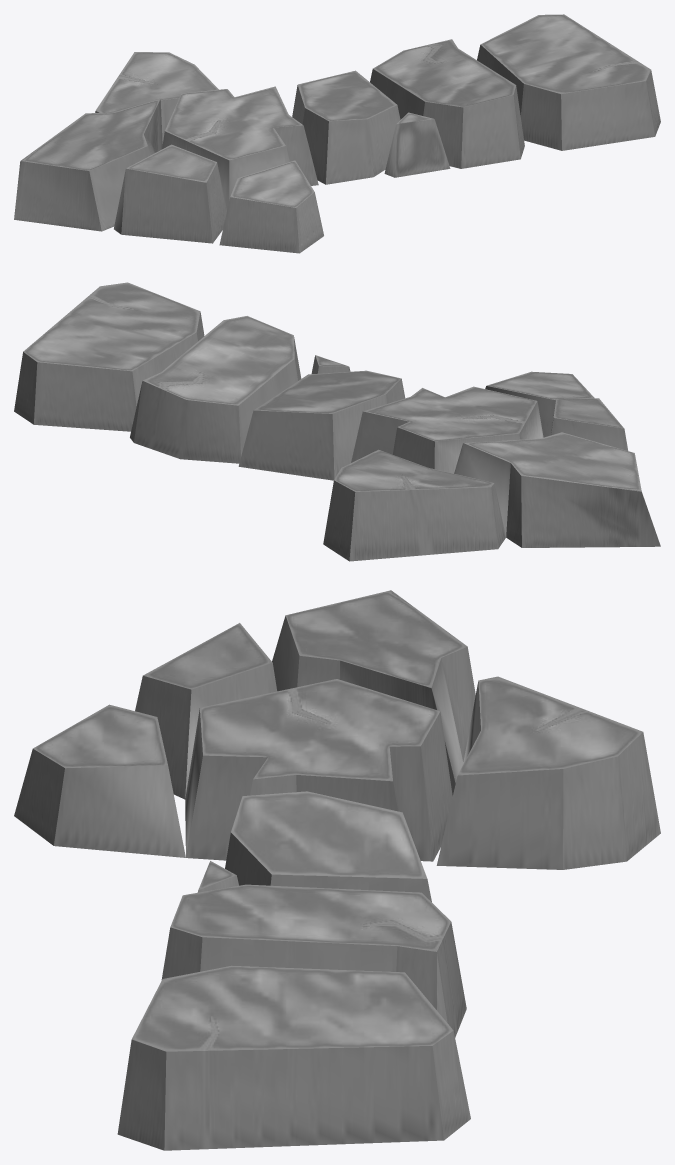
File: arrow_stones.FBX
3 renders of one model, top to bottom at view 1: azimuth 30°, elevation 25°; view 2: azimuth 150°, elevation 25°; view 3: azimuth 270°, elevation 25°, orthographic. The views are drawn at different scales.
Parts seen in each view (by area): view 1: Line003; view 2: Line003; view 3: Line003.
Boxes of the visible parts, <box> form: Line003: <box>14,14,660,253</box>; Line003: <box>14,282,660,561</box>; Line003: <box>14,590,660,1150</box>.
Bounding box in the file's own units: 186 × 20.67 × 105.
